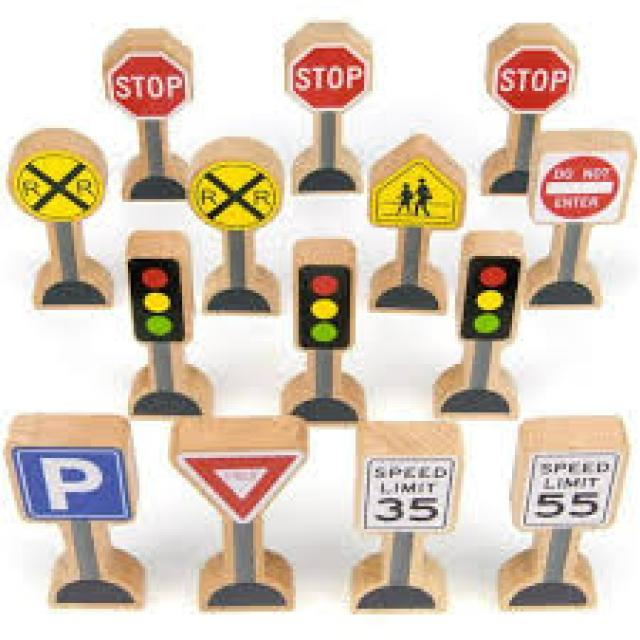speedLimit35: (364, 458, 444, 529)
